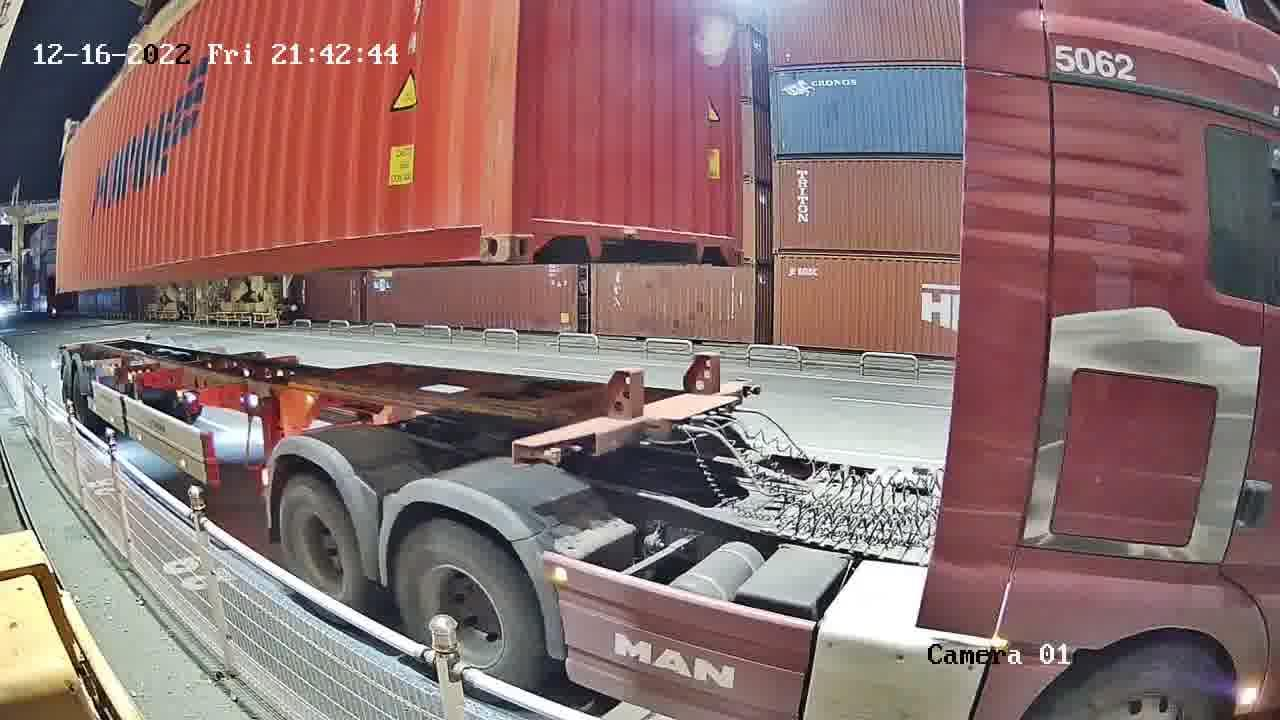Chassis: (512, 376, 761, 473)
Container: (511, 193, 744, 269)
Hole_L: (510, 193, 553, 264)
Hole_R: (460, 191, 514, 263), (716, 219, 743, 267)
Tire: (390, 521, 543, 689), (277, 481, 368, 611)
